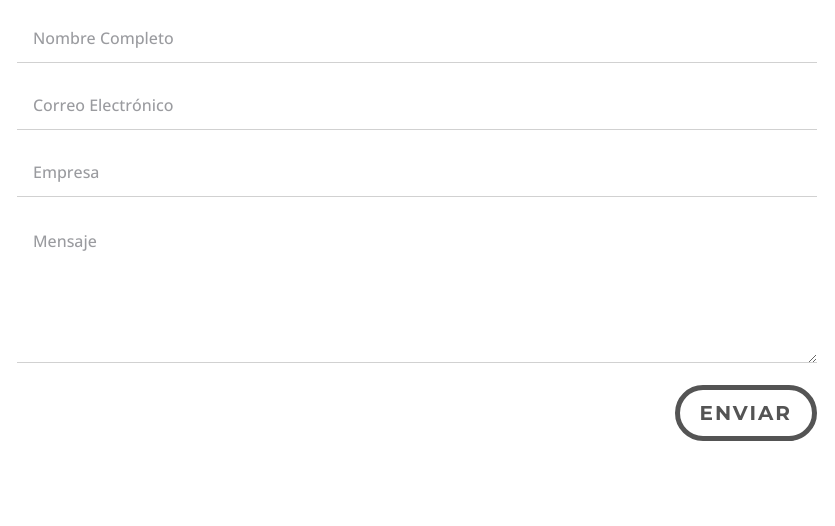
Test: ContactForm — estados de envio › mostra o erro do campo, liga aria-invalid e preserva o que foi digitado
The width and height of the screenshot is (835, 526).
In the field labelled "Correo Electrónico": (417, 104) [17,79,817,130], type "no-es-un-correo"
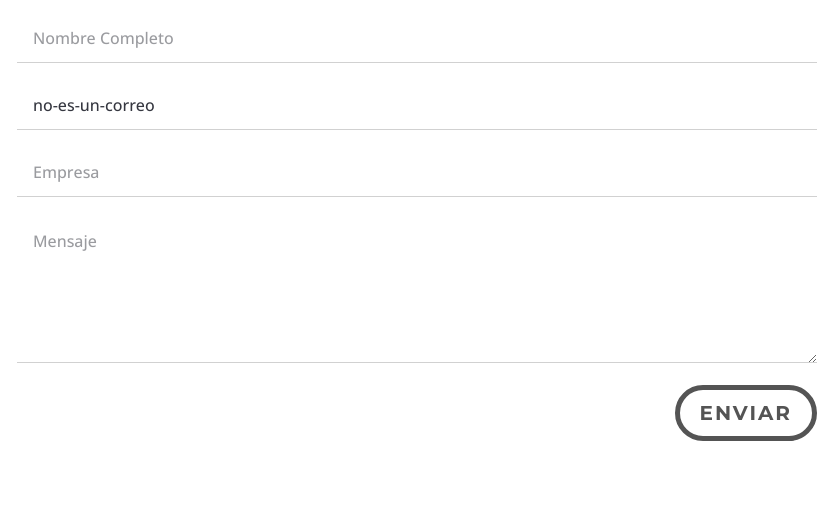
Click the button "Enviar": (746, 413) [674,385,817,441]
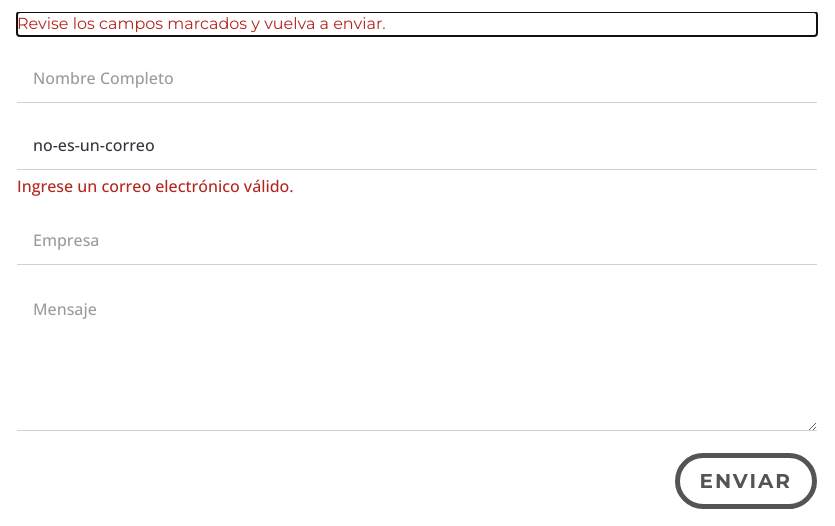
Expected: the text "Ingrese un correo electrónico válido." is shown, [17,175,294,197]
Expected: the message reads "Revise los campos marcados y vuelva a enviar.", [17,14,386,33]
